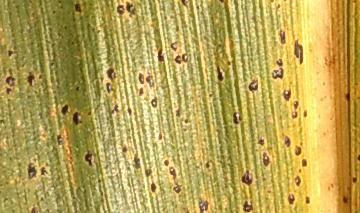tarspot: (168, 167, 183, 194), (292, 38, 304, 65), (124, 1, 137, 19), (240, 169, 253, 186), (132, 149, 142, 170), (174, 52, 189, 65), (144, 73, 156, 89), (105, 67, 117, 83), (197, 196, 208, 213), (231, 111, 243, 126), (27, 162, 37, 180), (156, 47, 167, 63), (261, 151, 271, 168), (271, 67, 284, 80), (242, 199, 254, 213), (215, 64, 224, 82), (290, 100, 299, 118), (26, 71, 35, 88), (83, 153, 95, 165), (4, 75, 16, 87), (55, 133, 65, 147), (278, 28, 286, 45), (137, 71, 146, 86), (109, 104, 121, 115), (248, 78, 258, 91), (149, 95, 159, 108), (172, 105, 182, 118), (282, 134, 291, 148), (60, 104, 71, 115), (281, 88, 291, 100), (149, 179, 157, 194), (169, 40, 179, 52), (287, 192, 295, 206), (143, 167, 153, 178), (293, 145, 302, 157), (39, 165, 48, 177), (73, 2, 82, 14), (116, 4, 125, 16), (125, 105, 134, 117), (72, 110, 79, 125), (104, 82, 112, 95), (275, 57, 285, 67), (120, 143, 129, 154), (293, 175, 301, 187), (156, 129, 164, 141), (256, 137, 265, 147), (351, 174, 359, 185), (4, 87, 13, 96), (162, 158, 170, 168), (341, 194, 349, 204), (207, 88, 215, 98), (344, 91, 351, 102), (137, 86, 144, 97), (179, 1, 188, 9), (48, 61, 57, 69), (304, 195, 311, 205), (301, 157, 307, 168), (28, 207, 39, 213), (183, 117, 191, 125), (302, 108, 308, 118), (181, 126, 188, 134), (225, 59, 232, 67), (204, 160, 210, 169), (275, 2, 281, 11), (1, 118, 6, 128), (37, 73, 43, 81), (6, 49, 12, 56), (74, 85, 81, 91), (50, 9, 57, 15), (96, 178, 103, 184), (356, 152, 360, 161), (69, 40, 75, 46), (216, 1, 225, 4), (268, 1, 274, 4)
